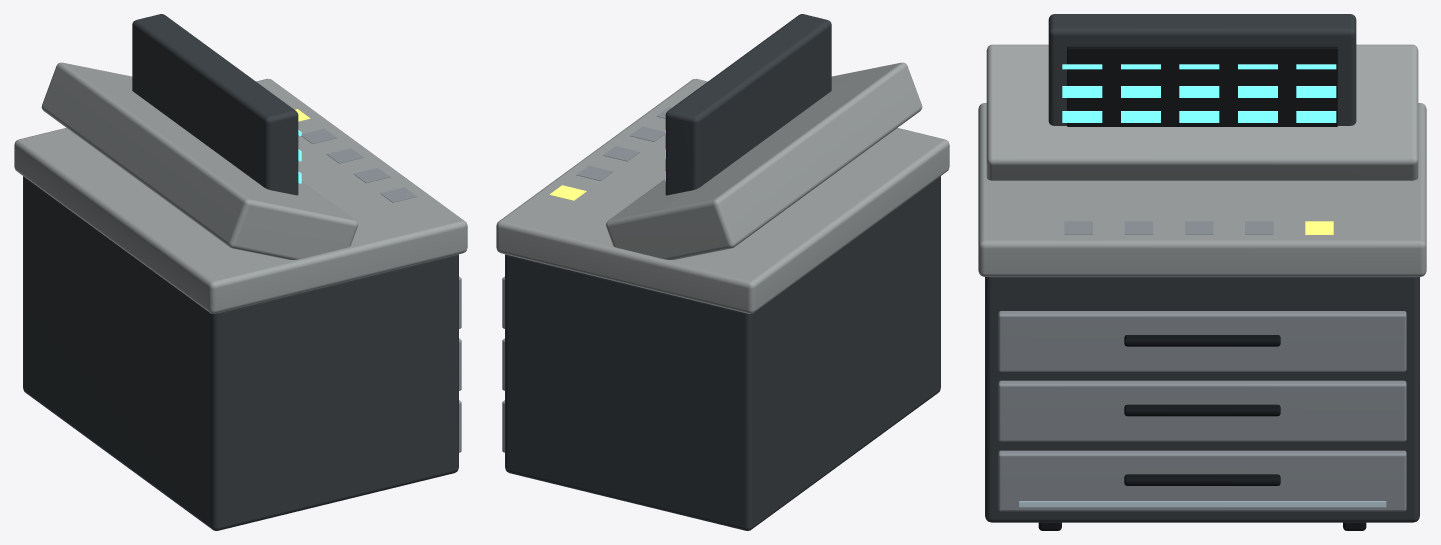
File: ZH_ENV_Control_Console_02.fbx
3 renders of one model, left to right at view 1: azimuth 30°, elevation 25°; view 2: azimuth 150°, elevation 25°; view 3: azimuth 270°, elevation 25°, orthographic. The views are drawn at different scales.
Visible parts, largest first — view 1: Console module | base.003, Console module | countertop.003, Console | sloping fascia.003, Console | diagnostics | frame.003; view 2: Console module | base.003, Console module | countertop.003, Console | sloping fascia.003, Console | diagnostics | frame.003; view 3: Console module | countertop.003, Console | sloping fascia.003, Console module | base.003, Console module | drawer.010, Console module | drawer.011, Console module | drawer.009, Console | diagnostics | screen.003, Console | diagnostics | frame.003, Console | toe light.003, Console module | pull.010, Console module | pull.009, Console module | pull.011.
Part boxes in pixels (x1,y1,x2,y2): Console module | base.003: [23, 176, 458, 530]; Console module | countertop.003: [14, 78, 467, 313]; Console | sloping fascia.003: [41, 62, 357, 259]; Console | diagnostics | frame.003: [132, 14, 298, 195]; Console module | base.003: [505, 176, 940, 530]; Console module | countertop.003: [496, 78, 949, 313]; Console | sloping fascia.003: [606, 62, 922, 259]; Console | diagnostics | frame.003: [665, 14, 831, 195]; Console module | countertop.003: [978, 103, 1426, 276]; Console | sloping fascia.003: [986, 44, 1418, 180]; Console module | base.003: [985, 277, 1419, 522]; Console module | drawer.010: [998, 380, 1406, 441]; Console module | drawer.011: [998, 311, 1406, 371]; Console module | drawer.009: [998, 450, 1406, 511]; Console | diagnostics | screen.003: [1067, 46, 1337, 126]; Console | diagnostics | frame.003: [1048, 14, 1356, 125]; Console | toe light.003: [1018, 501, 1386, 507]; Console module | pull.010: [1124, 404, 1280, 416]; Console module | pull.009: [1124, 474, 1280, 485]; Console module | pull.011: [1124, 335, 1280, 346].
Bounding box in the file's own units: 1.06 × 1.46 × 1.34.
